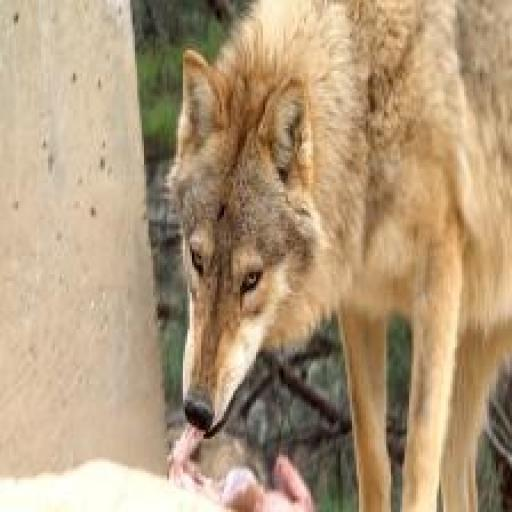wolf: (162, 0, 512, 512)
